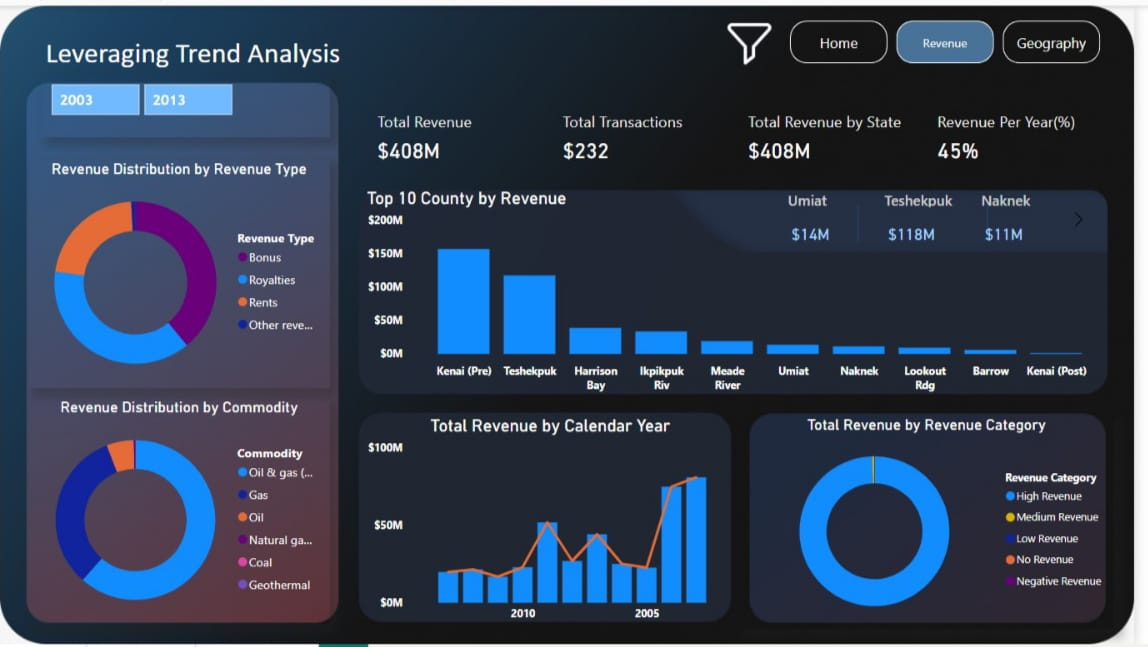

The page's visual inventory and layout, read from the dashboard file:
{"tool":"powerbi","page":{"name":"Revenue ","canvas":[1280,720],"ordinal":1},"visuals":[{"type":"donutChart","title":"Revenue Distribution by Revenue Type","fields":{"Y":["Sum(revenue_analysis revenue_data.Revenue)"],"Category":["revenue_analysis revenue_data.Revenue Type"]},"box":[32.8,173.5,339.2,257.9],"z":0},{"type":"donutChart","title":"Revenue Distribution by Commodity","fields":{"Y":["Sum(revenue_analysis revenue_data.Revenue)"],"Category":["revenue_analysis revenue_data.Commodity"]},"box":[32.8,442.3,339.2,254.8],"z":1000},{"type":"clusteredColumnChart","title":"Top 10 County by Revenue","fields":{"Y":["Sum(revenue_analysis revenue_data.Revenue)"],"Category":["revenue_data.County"]},"box":[409.5,206.3,847.1,237.6],"z":2000},{"type":"pieChart","title":"Total Revenue by Revenue Category","fields":{"Y":["Sum(revenue_analysis revenue_data.Revenue)"],"Category":["revenue_analysis revenue_data.Revenue Category"]},"box":[833.1,462.6,423.6,240.7],"z":3000},{"type":"lineStackedColumnComboChart","title":"Total Revenue by Calendar Year","fields":{"Category":["revenue_analysis revenue_data.Calendar Year"],"Y":["Sum(revenue_analysis revenue_data.Revenue)"],"Y2":["Sum(revenue_analysis revenue_data.Revenue)"]},"box":[409.5,462.6,423.6,240.7],"z":4000},{"type":"cardVisual","fields":{"Data":["Sum(revenue_data.Revenue)","revenue_data.Total Transactions","revenue_data.Total Revenue by State"]},"box":[409,90,631.6,115.3],"z":5000},{"type":"cardVisual","fields":{"Data":["revenue_data.Revenue Per Year"]},"box":[1040.5,90,192.6,115.3],"z":6000},{"type":"cardVisual","title":"Top 10 Countries by Revenue","fields":{"Rows":["revenue_analysis revenue_data.County"],"Data":["Sum(revenue_data.Revenue)"]},"box":[856.5,206.3,376.7,71.9],"z":7000},{"type":"pageNavigator","box":[890.9,17.2,350.1,48.5],"z":8000},{"type":"textbox","box":[46.9,28.1,362.6,50],"z":9000},{"type":"image","box":[811.2,4.7,68.8,75],"z":11000},{"type":"slicer","fields":{"Values":["revenue_analysis revenue_data.Calendar Year"]},"box":[32.8,79.7,339.2,79.7],"z":12000}]}

Visuals, with their boxes in screenshot pixels (x1, y1, x2, y2), scaled from the page's 1280x720 canvas onto the 1148x647 screenshot:
"Revenue Distribution by Revenue Type" donutChart: box=[29, 156, 334, 388]
"Revenue Distribution by Commodity" donutChart: box=[29, 397, 334, 626]
"Top 10 County by Revenue" clusteredColumnChart: box=[367, 185, 1127, 399]
"Total Revenue by Revenue Category" pieChart: box=[747, 416, 1127, 632]
"Total Revenue by Calendar Year" lineStackedColumnComboChart: box=[367, 416, 747, 632]
cardVisual - Sum(revenue_data.Revenue) x revenue_data.Total Transactions: box=[367, 81, 933, 184]
cardVisual - revenue_data.Revenue Per Year: box=[933, 81, 1106, 184]
"Top 10 Countries by Revenue" cardVisual: box=[768, 185, 1106, 250]
pageNavigator: box=[799, 15, 1113, 59]
textbox: box=[42, 25, 367, 70]
image: box=[728, 4, 789, 72]
slicer - revenue_analysis revenue_data.Calendar Year: box=[29, 72, 334, 143]
